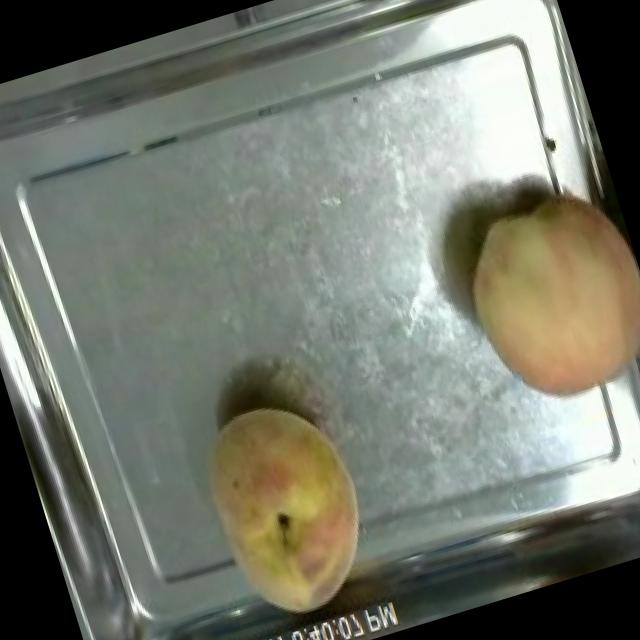Fruit: (174, 376, 397, 640), (439, 171, 640, 428)
